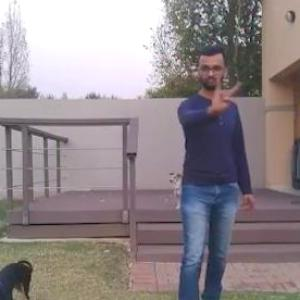takeoff-hand: (203, 75, 245, 117)
